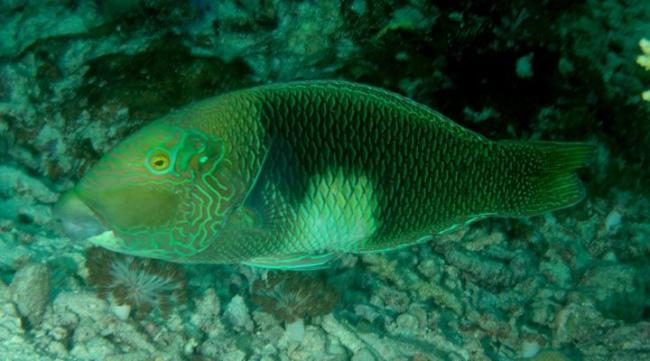fish: (53, 79, 602, 273)
